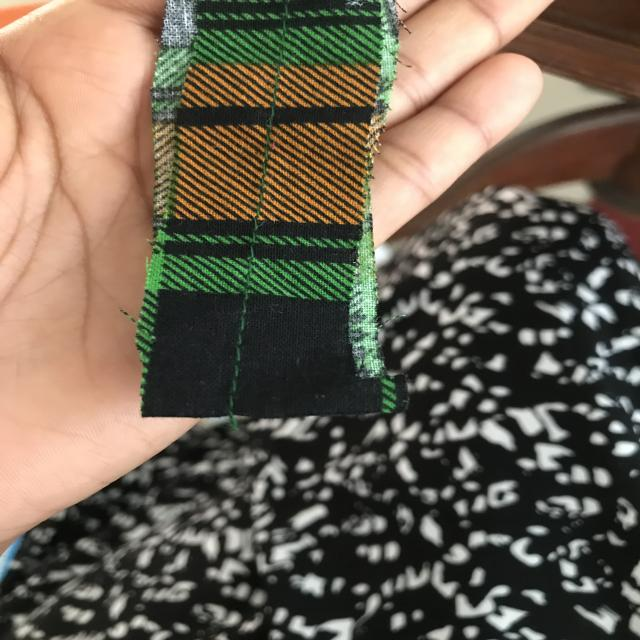good: (208, 314, 253, 404)
